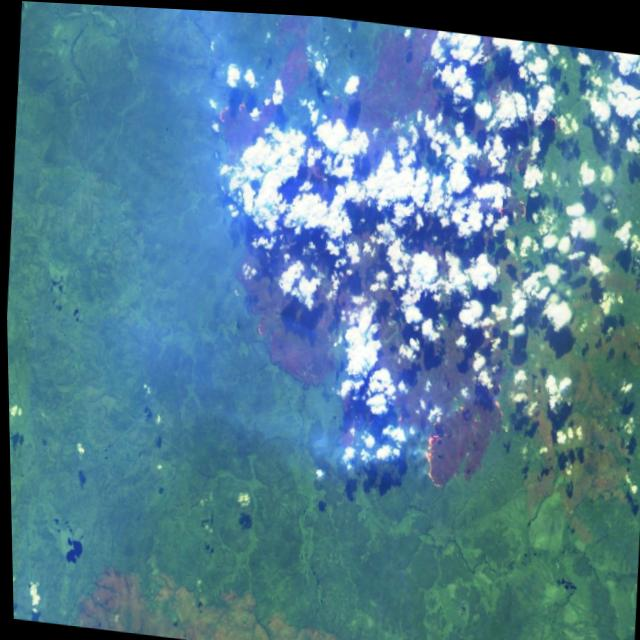fire: (415, 416, 455, 493), (484, 365, 514, 425)
